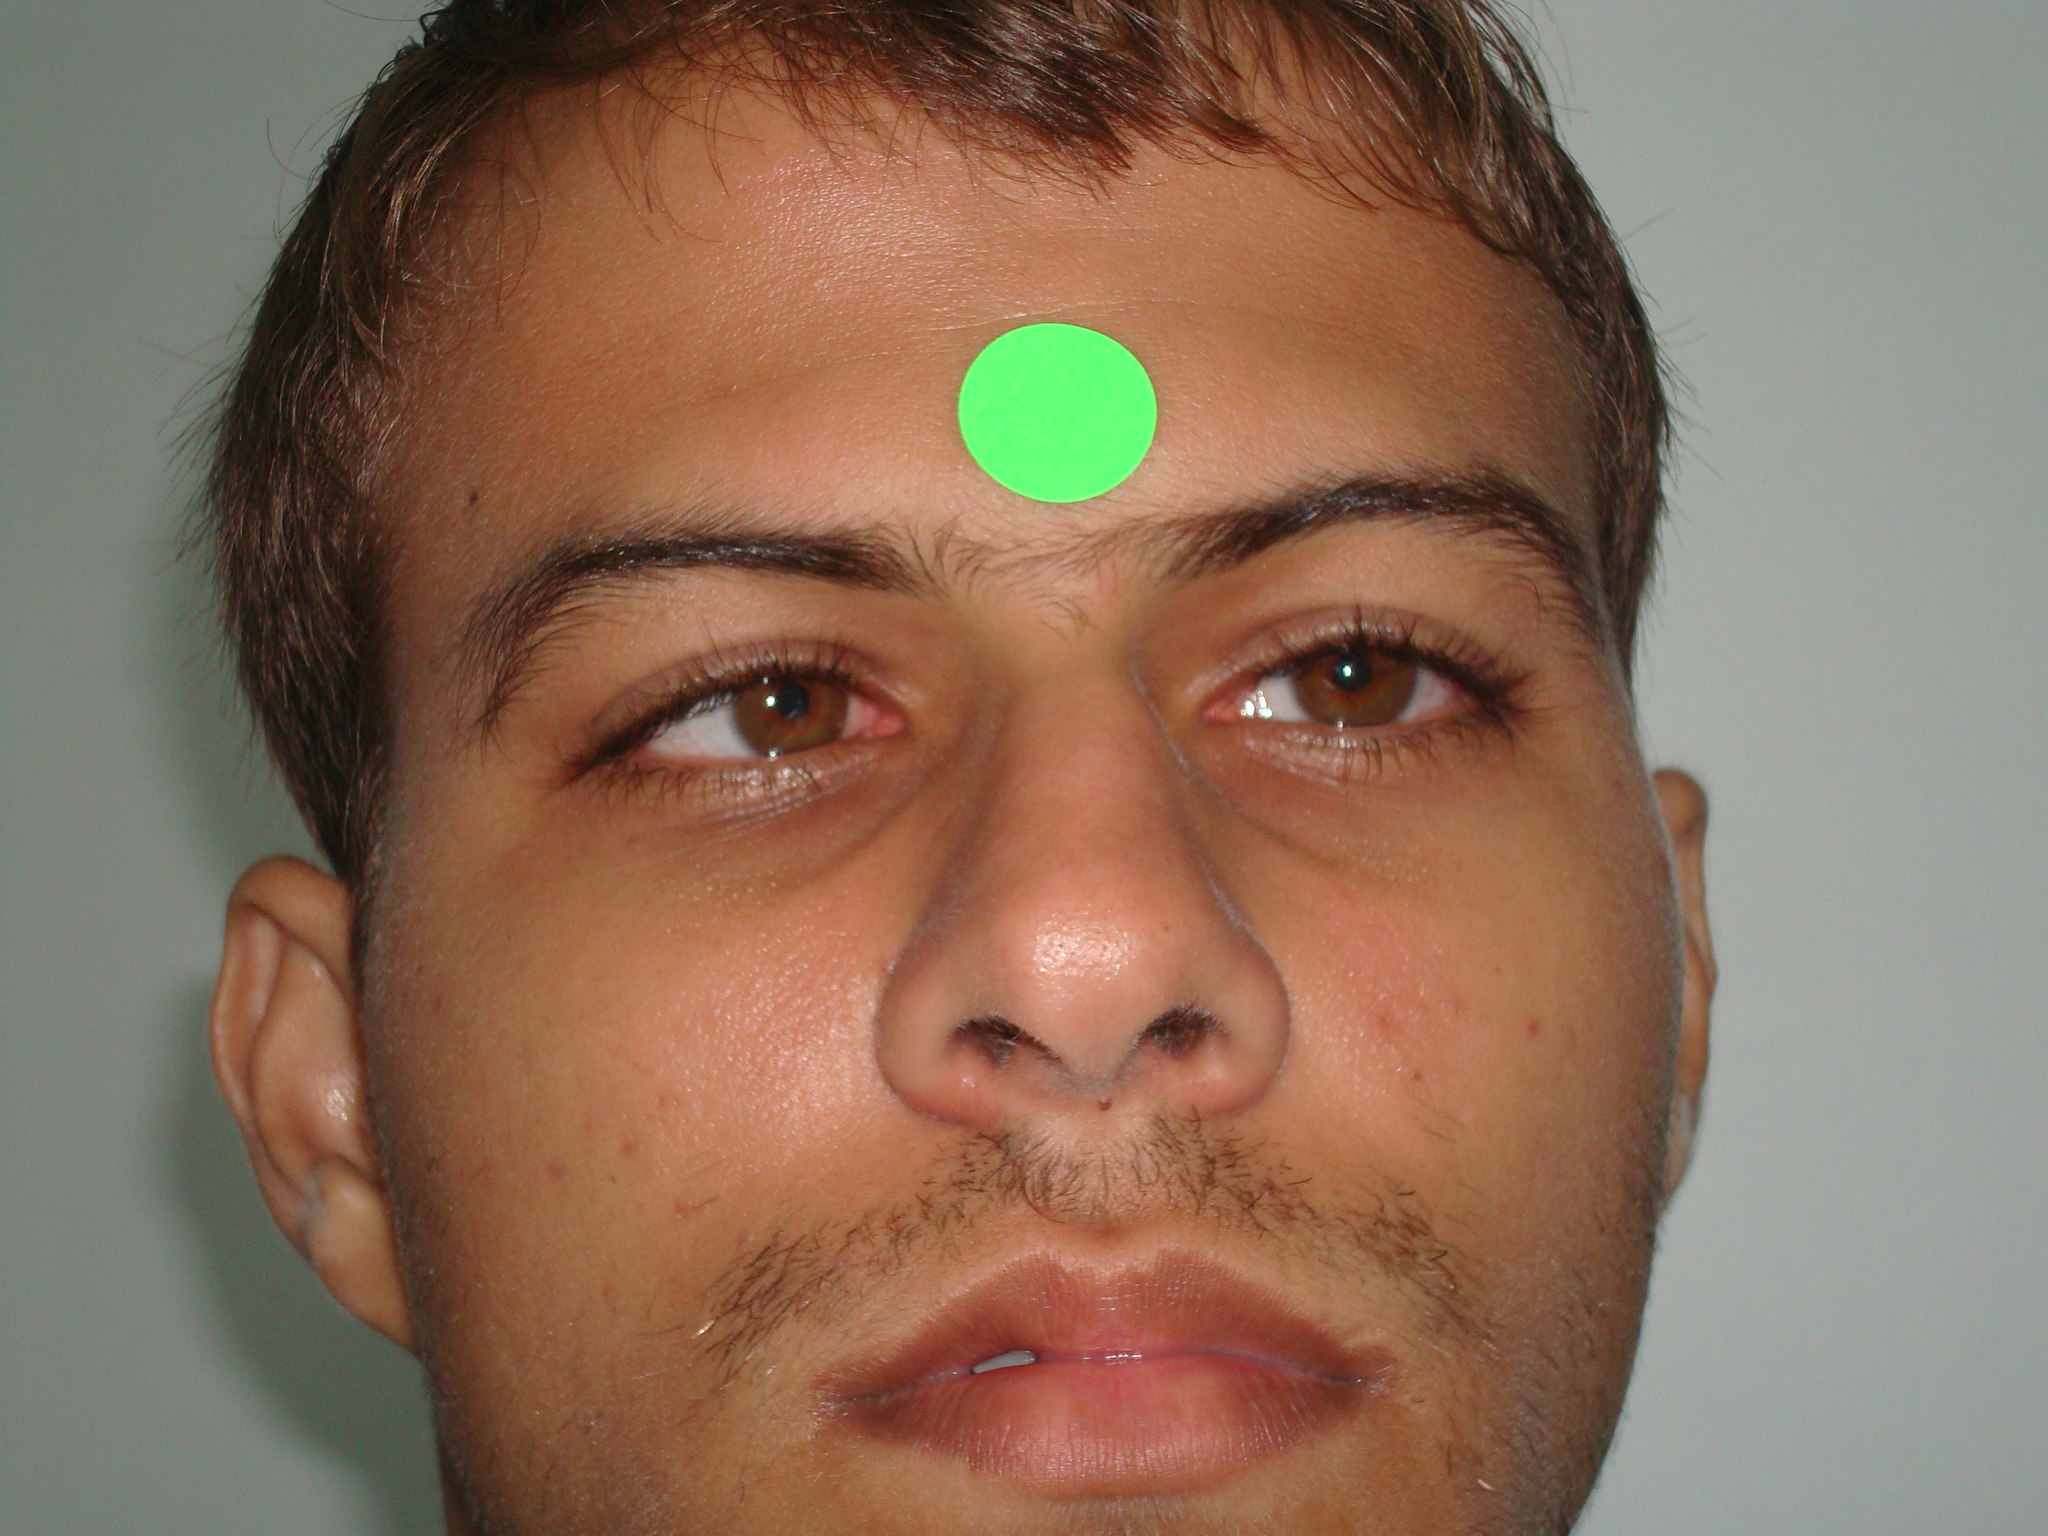flash: (1338, 662, 1356, 681), (761, 692, 779, 710)
limbo: (1288, 618, 1417, 726), (737, 650, 850, 752)
